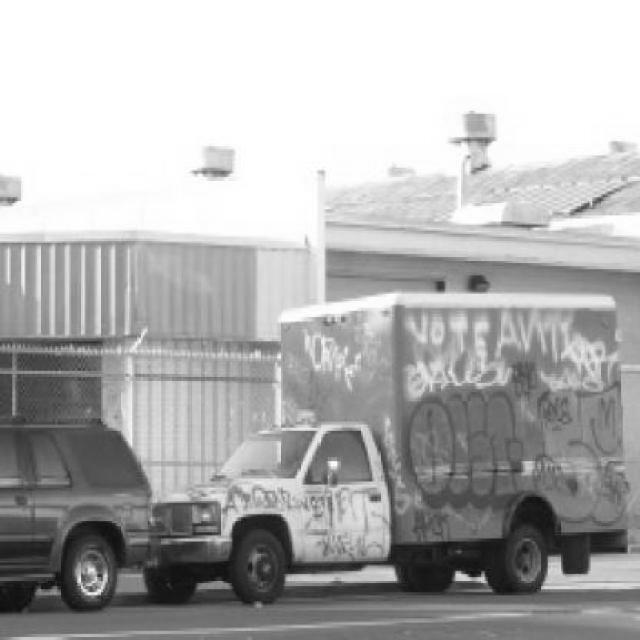Ambulance: (144, 293, 631, 605)
